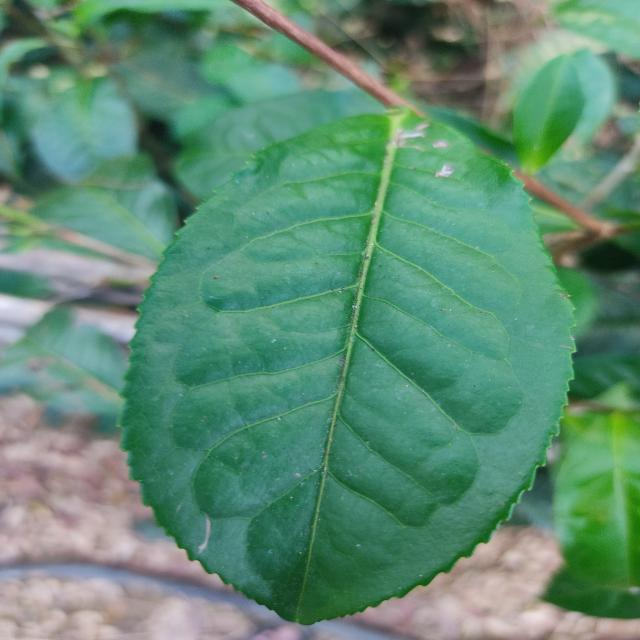Category D(7+ days, Not for Tea): (108, 99, 592, 633)
